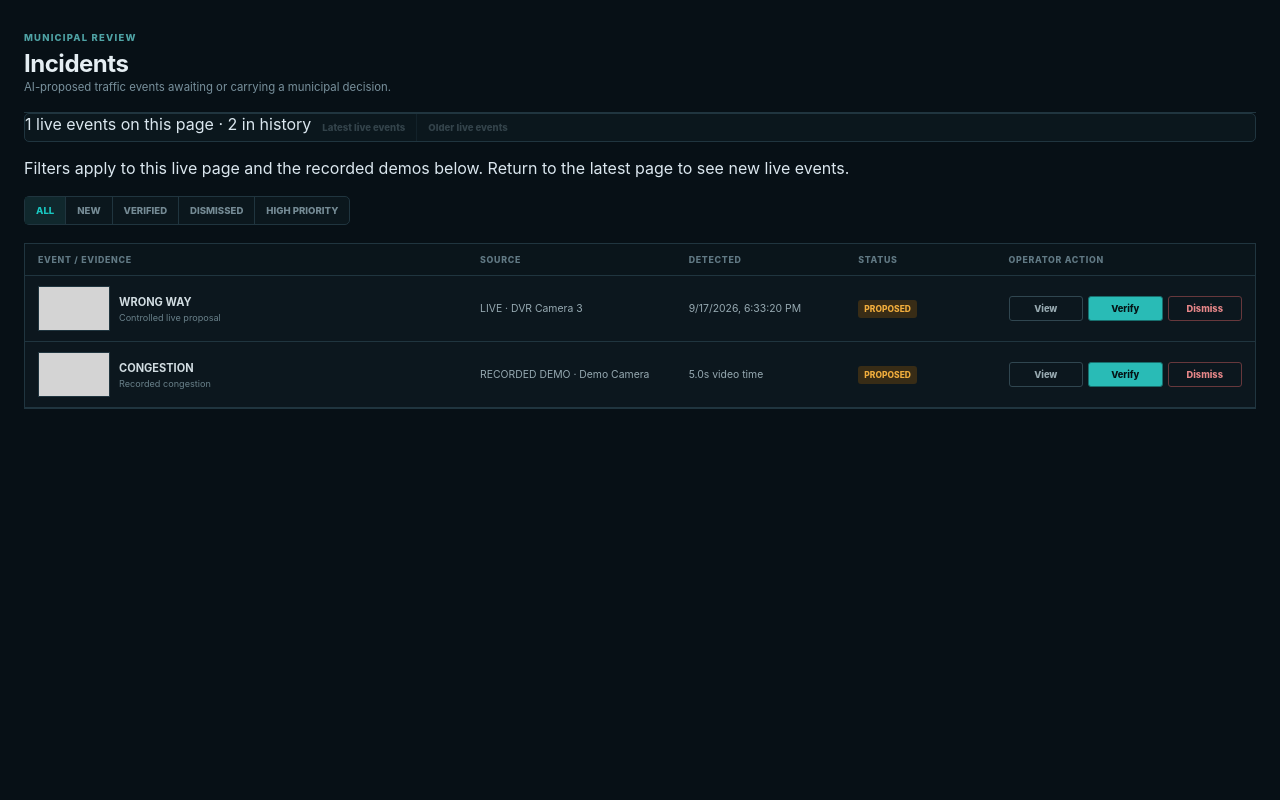
Test case: Unified incidents › shows persistent LIVE and recorded demo incidents once, with live evidence and safe wrong-way metadata
expect the text "LIVE · DVR Camera 3" is shown: met, box [480, 302, 583, 315]
expect the text "RECORDED DEMO · Demo Camera" is shown: met, box [480, 368, 675, 381]
What coordinates should you click on to do the following:
click the button "View" in the row of "9/17/2026, 6:33:20 PM"
I would click on:
 (1046, 308)
Its box is [1008, 296, 1083, 321].
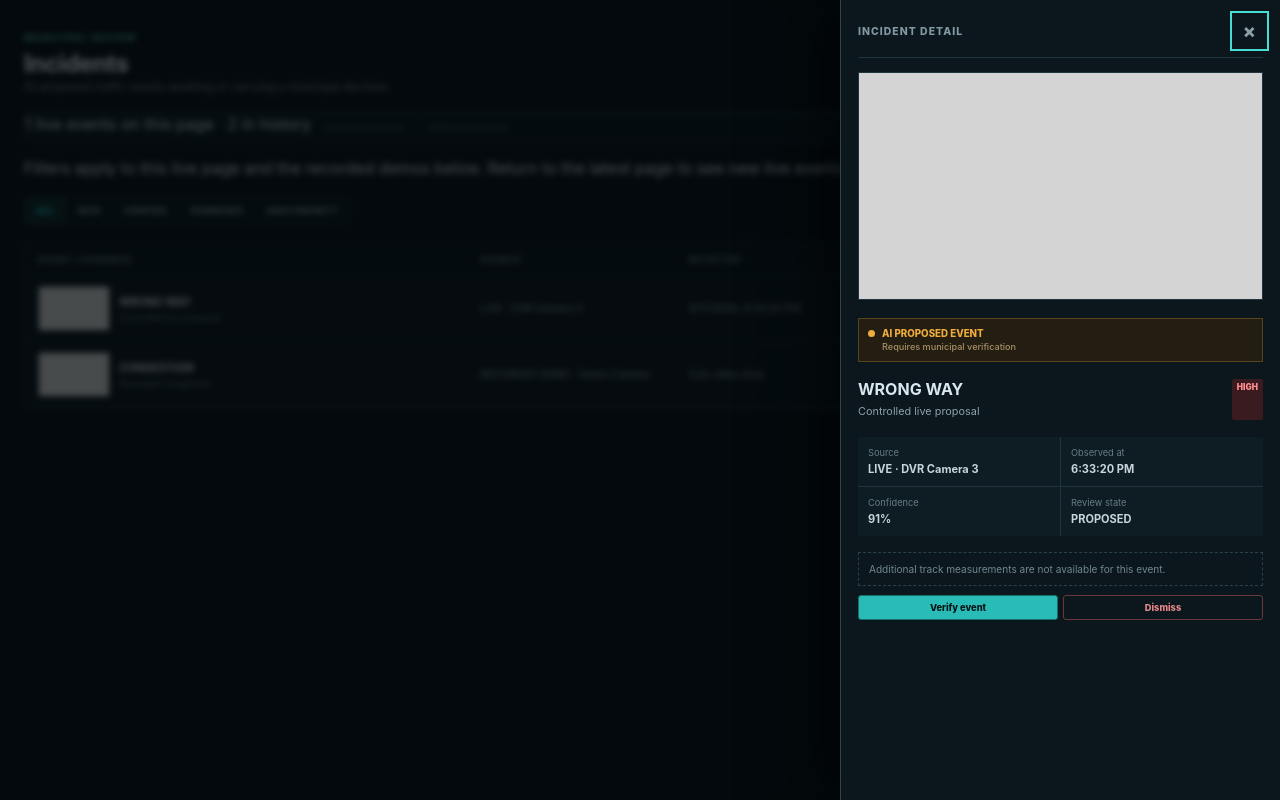
expect the text "Observed at" is shown: met, box [1071, 447, 1125, 458]
